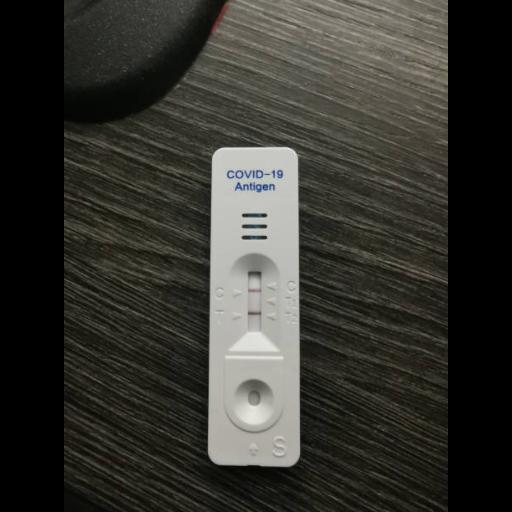Pos: (212, 147, 300, 465)
